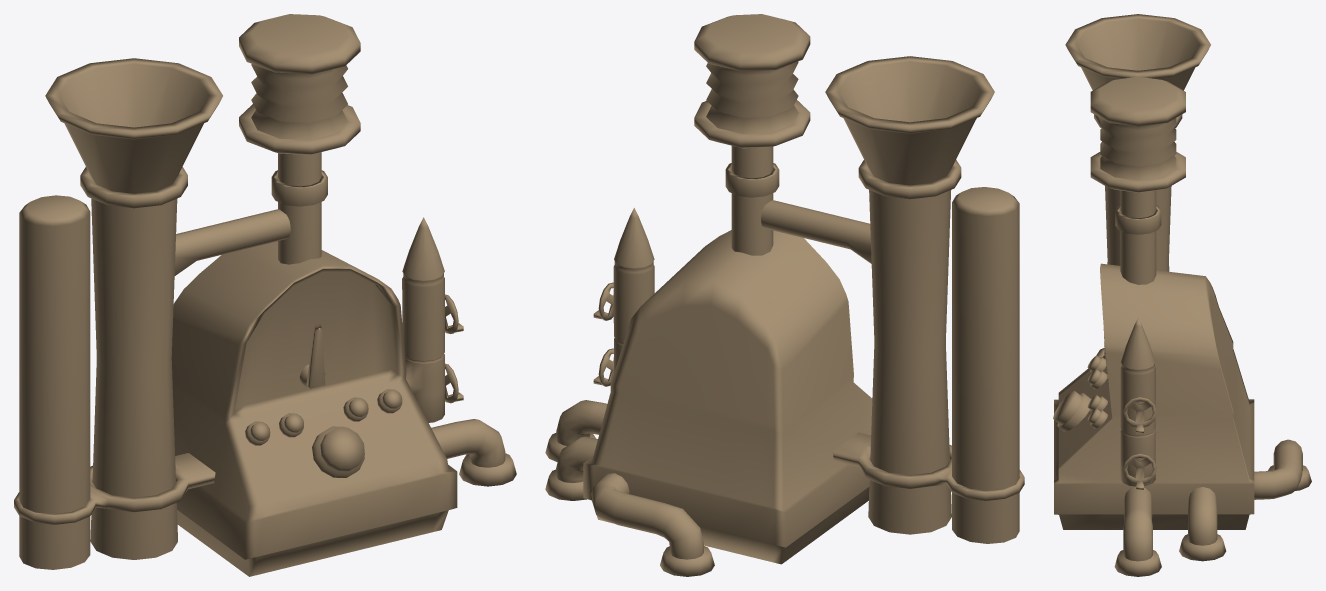
Rendered from WeatherMachine_03-STOP.fbx.
3 renders of one model, left to right at view 1: azimuth 30°, elevation 25°; view 2: azimuth 150°, elevation 25°; view 3: azimuth 270°, elevation 25°, orthographic. The views are drawn at different scales.
Visible parts, largest first — view 1: BaseMaquina, TuboDeHumo3, TanqueSecundario, TuboDeHumo, pCylinder14, Acordeon2, polySurface2, Conector, Soporte_01, TubosDePropulsion, Tubo_01, polySurface1 (+6 smaller); view 2: BaseMaquina, TuboDeHumo3, TanqueSecundario, TuboDeHumo, Acordeon2, polySurface2, Tubo_03, pCylinder14, Conector, TubosDePropulsion, Soporte_01, polySurface1 (+6 smaller); view 3: BaseMaquina, TuboDeHumo, pCylinder14, Acordeon2, polySurface2, TubosDePropulsion, TuboDeHumo3, Tubo_01, Tubo_03, Tubo_02, polySurface1, Soporte_03 (+6 smaller).
Part boxes in pixels (x1,y1,x2,y2): BaseMaquina: [171, 241, 457, 576]; TuboDeHumo3: [90, 198, 177, 559]; TanqueSecundario: [19, 195, 90, 569]; TuboDeHumo: [45, 58, 222, 193]; pCylinder14: [402, 217, 444, 422]; Acordeon2: [251, 64, 347, 139]; polySurface2: [239, 14, 360, 74]; Conector: [174, 209, 290, 275]; Soporte_01: [14, 453, 215, 524]; TubosDePropulsion: [278, 152, 321, 264]; Tubo_01: [431, 419, 505, 467]; polySurface1: [239, 104, 360, 154]; BaseMaquina: [583, 230, 872, 564]; TuboDeHumo3: [868, 190, 951, 534]; TanqueSecundario: [952, 187, 1019, 543]; TuboDeHumo: [825, 56, 994, 185]; Acordeon2: [706, 61, 798, 133]; polySurface2: [694, 14, 810, 71]; Tubo_03: [591, 473, 703, 559]; pCylinder14: [613, 208, 654, 372]; Conector: [761, 200, 871, 263]; TubosDePropulsion: [731, 146, 773, 255]; Soporte_01: [832, 432, 1024, 500]; polySurface1: [694, 100, 810, 148]; BaseMaquina: [1054, 263, 1254, 529]; TuboDeHumo: [1065, 14, 1210, 90]; pCylinder14: [1120, 318, 1155, 486]; Acordeon2: [1100, 118, 1176, 180]; polySurface2: [1090, 76, 1185, 126]; TubosDePropulsion: [1120, 190, 1156, 284]; TuboDeHumo3: [1104, 186, 1171, 354]; Tubo_01: [1123, 487, 1152, 561]; Tubo_03: [1254, 439, 1302, 499]; Tubo_02: [1188, 487, 1217, 545]; polySurface1: [1090, 152, 1185, 192]; Soporte_03: [1115, 205, 1161, 234].
Size of the model in its own units: 461 by 434 by 256.
